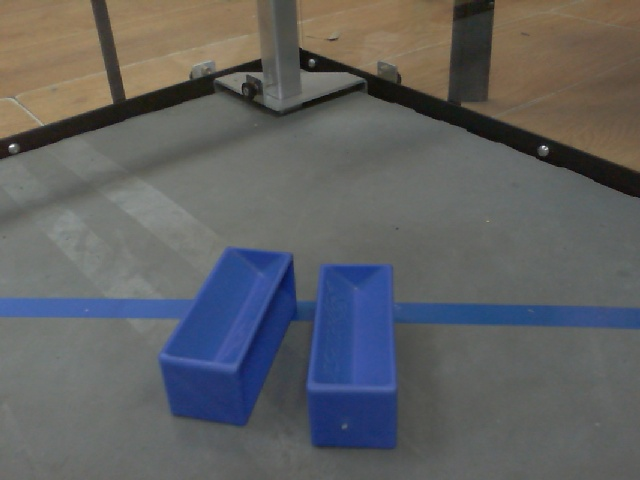BlueSample: (153, 245, 296, 437), (302, 260, 406, 453)
